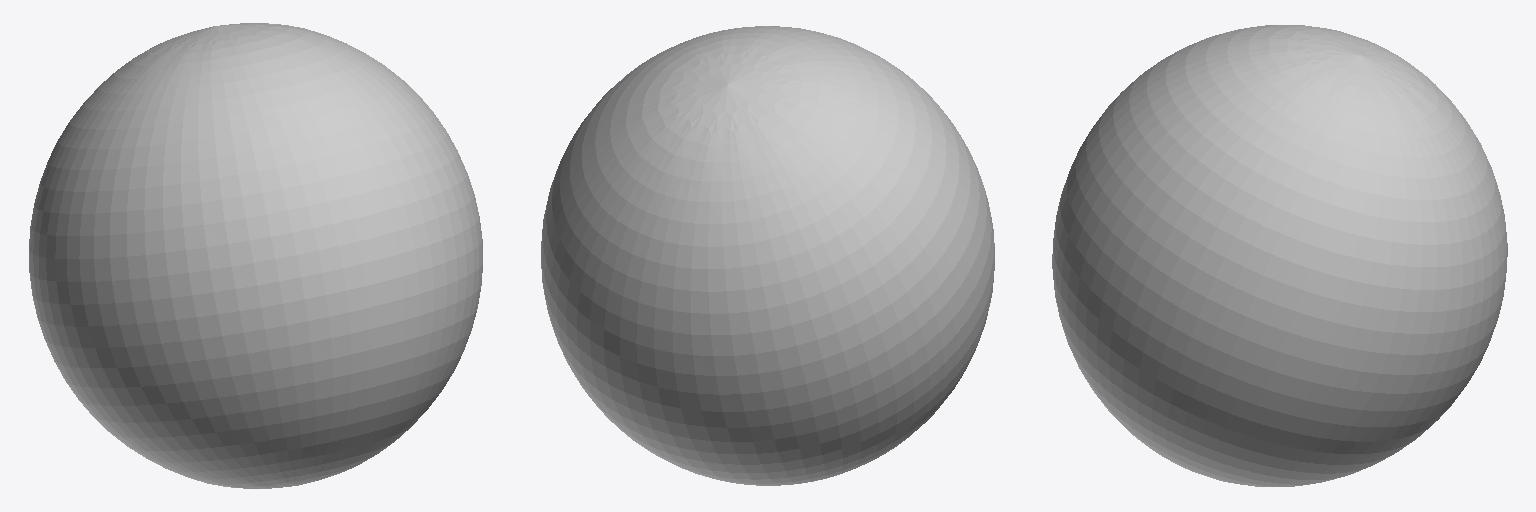
Rendered from ball6.obj.
3 renders of one model, left to right at view 1: azimuth 30°, elevation 25°; view 2: azimuth 150°, elevation 25°; view 3: azimuth 270°, elevation 25°, orthographic.
Visible parts, largest first — view 1: Sphere01.010; view 2: Sphere01.010; view 3: Sphere01.010.
Boxes of the visible parts, x1=… form: Sphere01.010: x1=29, y1=23, x2=482, y2=488; Sphere01.010: x1=541, y1=26, x2=994, y2=485; Sphere01.010: x1=1052, y1=25, x2=1507, y2=486.
Bounding box in the file's own units: 5.45 × 5.58 × 5.46.